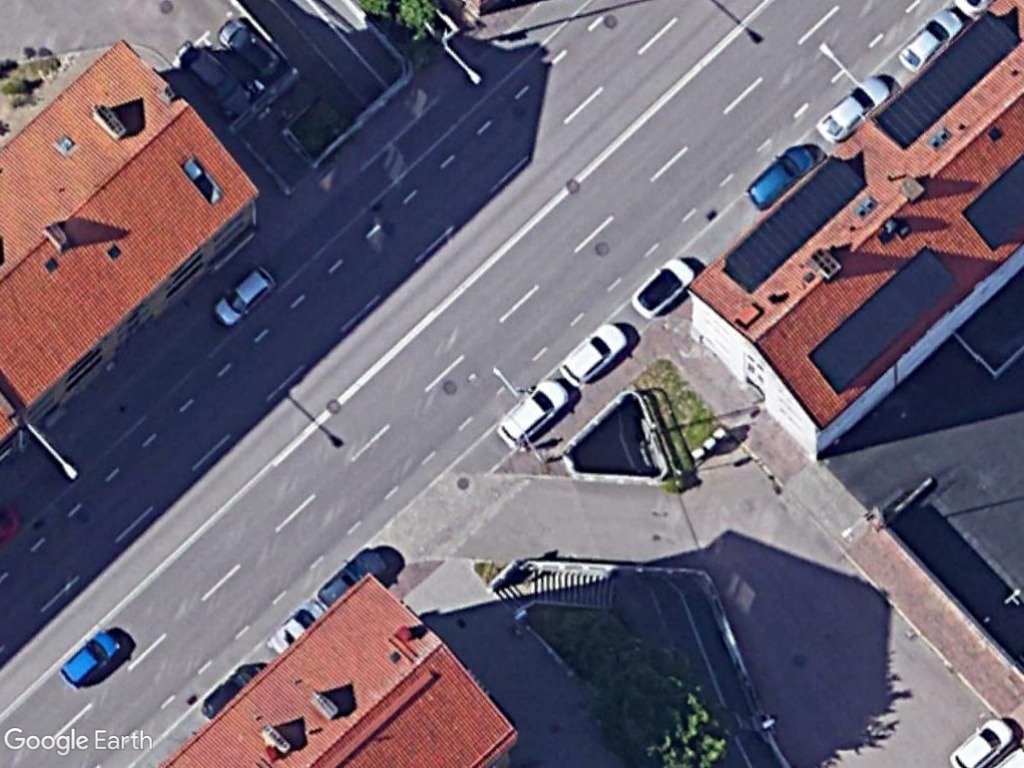car: (810, 69, 895, 147), (494, 374, 573, 455), (739, 140, 819, 216), (892, 7, 970, 74), (943, 704, 1024, 768), (55, 622, 125, 694), (563, 316, 632, 389), (211, 261, 278, 330)
